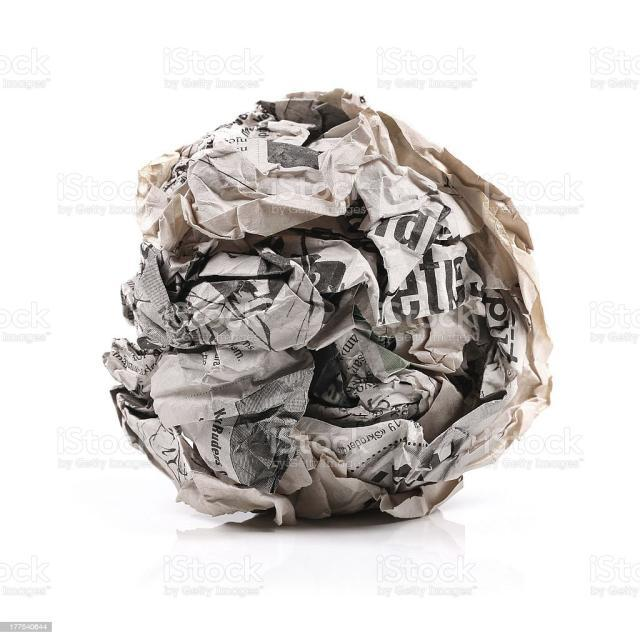Paper: (102, 89, 556, 529)
